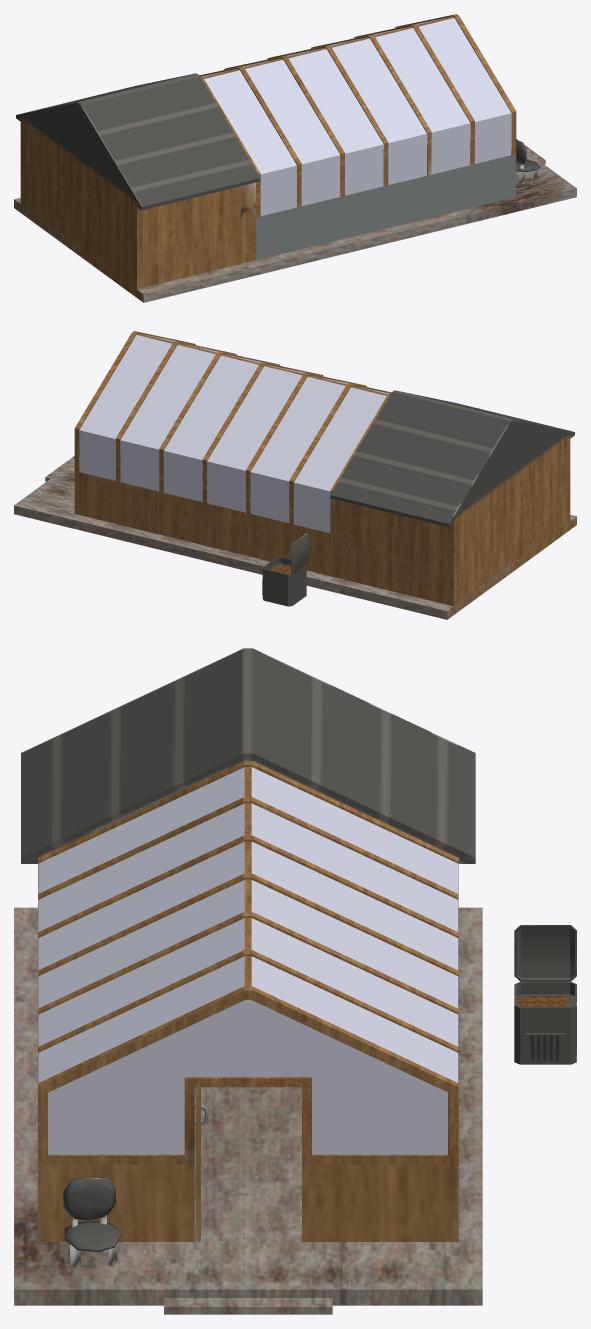
Rendered from model_building_GreenHouse_v0.8.fbx.
3 views of the same model, one above another, from view 1: azimuth 30°, elevation 25°; view 2: azimuth 150°, elevation 25°; view 3: azimuth 270°, elevation 25° (orthographic). The views are drawn at different scales.
Visible parts, largest first — view 1: greenSpace_Exterior_mergedObject; view 2: greenSpace_Exterior_mergedObject; view 3: greenSpace_Exterior_mergedObject.
Part boxes in pixels (x1,y1,x2,y2): greenSpace_Exterior_mergedObject: [14, 14, 576, 302]; greenSpace_Exterior_mergedObject: [14, 331, 576, 619]; greenSpace_Exterior_mergedObject: [14, 648, 576, 1314].
Bounding box in the file's own units: 2285 × 750 × 1390.
Materials: 5 (4 with a texture image).
